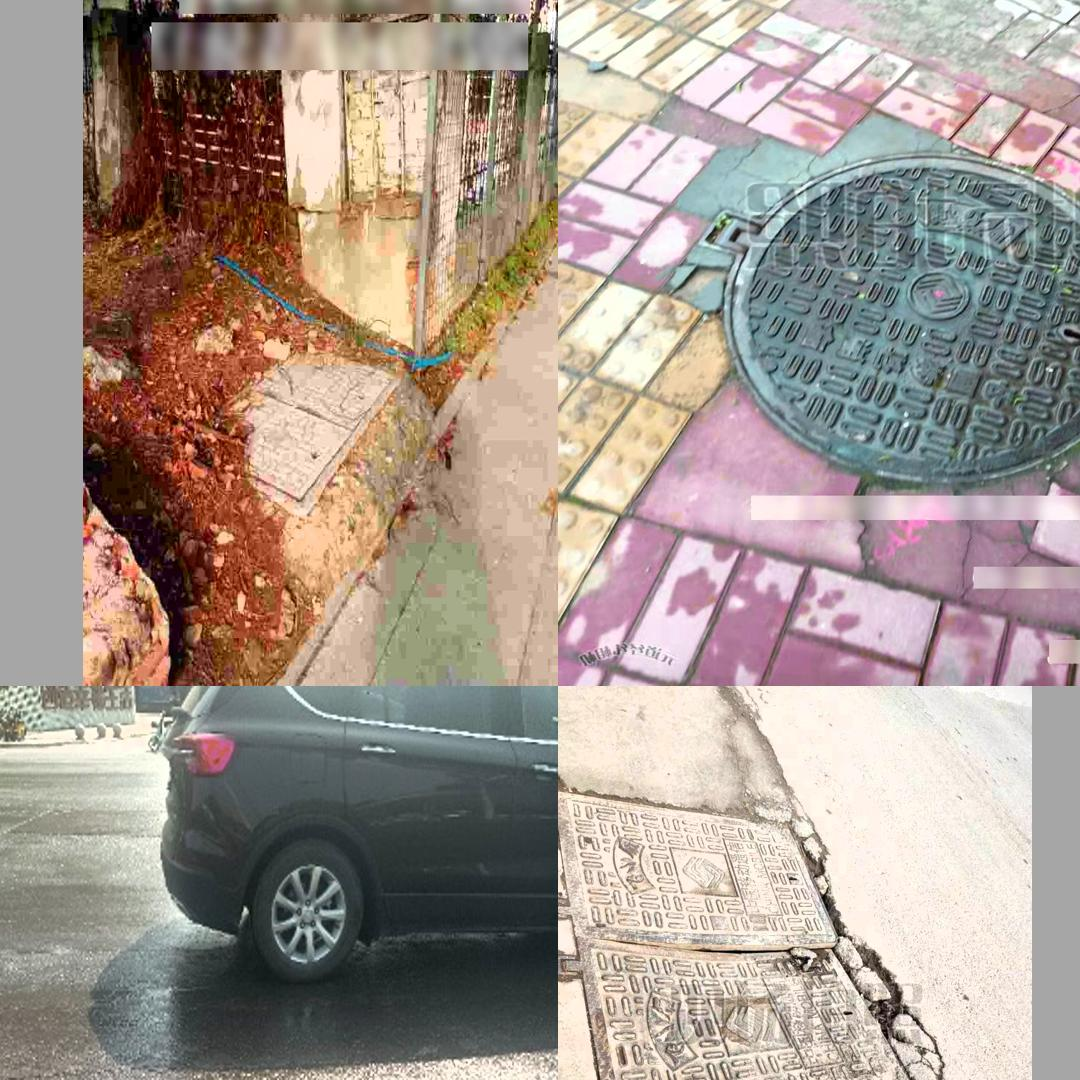good: (694, 152, 1080, 486), (561, 793, 900, 1080), (211, 345, 398, 517)
